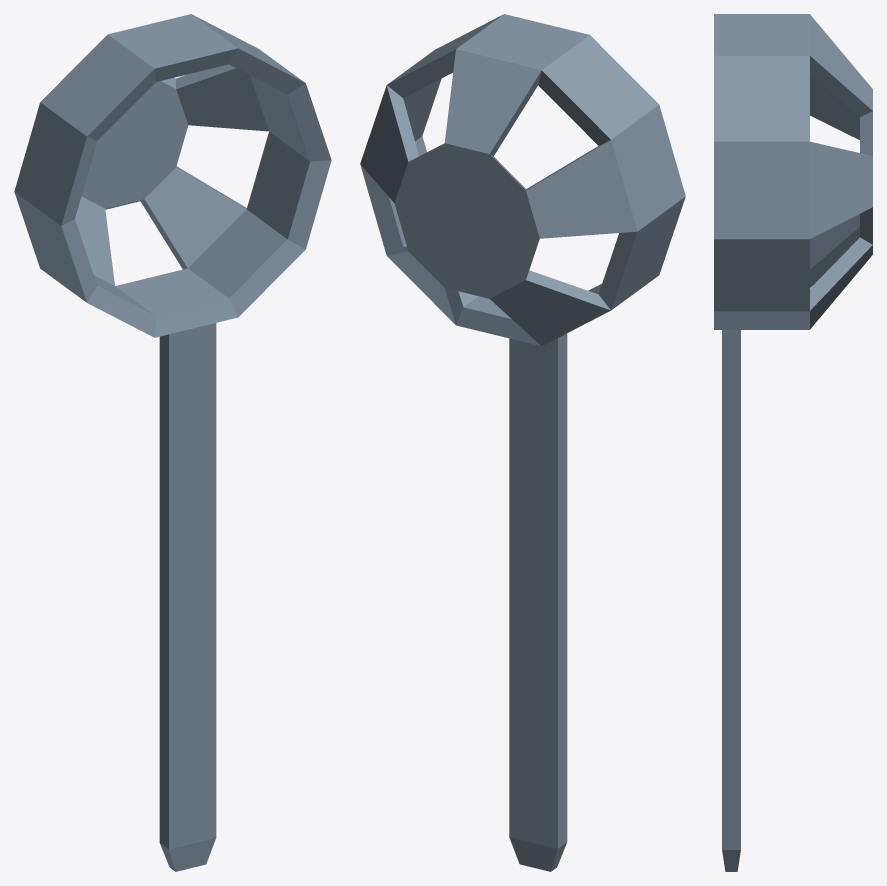
File: EggSeparatorCollider.obj
The picture shows the model from 3 angles, left to right: view 1: azimuth 30°, elevation 25°; view 2: azimuth 150°, elevation 25°; view 3: azimuth 270°, elevation 25°; orthographic projection. The views are drawn at different scales.
Parts seen in each view (by area): view 1: pot.001, pot.003, pot.014, pot.015, pot.009, pot.010, pot.007, pot.013, pot.002, pot.008, pot.016, pot.011 (+3 smaller); view 2: pot.001, pot.003, pot.005, pot.014, pot.006, pot.015, pot.004, pot.016, pot.013, pot.008, pot.012, pot.007 (+3 smaller); view 3: pot.001, pot.011, pot.012, pot.010, pot.008, pot.013, pot.006, pot.007, pot.004, pot.009, pot.005, pot.003.
Part boxes in pixels (x1,y1,x2,y2): pot.001: [159, 323, 216, 871]; pot.003: [81, 78, 188, 209]; pot.014: [40, 34, 156, 140]; pot.015: [14, 102, 97, 225]; pot.009: [188, 209, 305, 317]; pot.010: [247, 131, 331, 249]; pot.007: [140, 166, 246, 269]; pot.013: [108, 14, 237, 81]; pot.002: [115, 268, 237, 337]; pot.008: [176, 64, 268, 131]; pot.016: [14, 192, 97, 302]; pot.011: [250, 75, 331, 161]; pot.001: [509, 333, 567, 871]; pot.003: [394, 143, 539, 298]; pot.005: [526, 140, 637, 238]; pot.014: [538, 35, 658, 145]; pot.006: [444, 49, 541, 156]; pot.015: [611, 105, 685, 231]; pot.004: [490, 270, 610, 345]; pot.016: [598, 197, 685, 310]; pot.013: [456, 14, 589, 69]; pot.008: [360, 85, 418, 202]; pot.012: [387, 15, 502, 98]; pot.007: [387, 246, 463, 324]; pot.001: [722, 330, 740, 871]; pot.011: [714, 141, 809, 239]; pot.012: [714, 55, 809, 141]; pot.010: [714, 239, 809, 311]; pot.008: [810, 141, 872, 238]; pot.013: [714, 14, 809, 55]; pot.006: [810, 14, 872, 116]; pot.007: [810, 237, 872, 329]; pot.004: [810, 214, 859, 287]; pot.009: [714, 311, 809, 329]; pot.005: [810, 74, 859, 139]; pot.003: [860, 111, 872, 244].
Size of the model in its own units: 0.0851 by 0.2448 by 0.0425.
